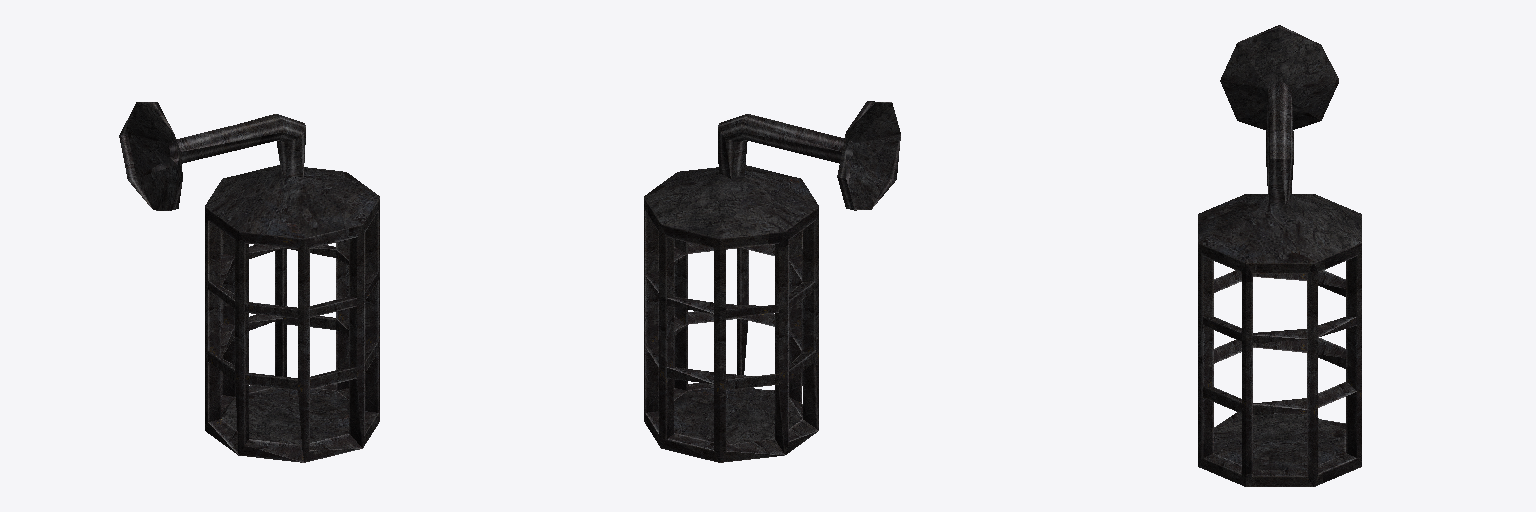
3 renders of one model, left to right at view 1: azimuth 30°, elevation 25°; view 2: azimuth 150°, elevation 25°; view 3: azimuth 270°, elevation 25°, orthographic.
Visible parts, largest first — view 1: Default_Layer; view 2: Default_Layer; view 3: Default_Layer.
Boxes of the visible parts, x1,y1,x2,y2 form: Default_Layer: [119, 102, 379, 462]; Default_Layer: [644, 101, 900, 462]; Default_Layer: [1198, 25, 1361, 486].
Size of the model in its own units: 0.7003 by 1.11 by 0.4621.
Materials: 1 (1 with a texture image).